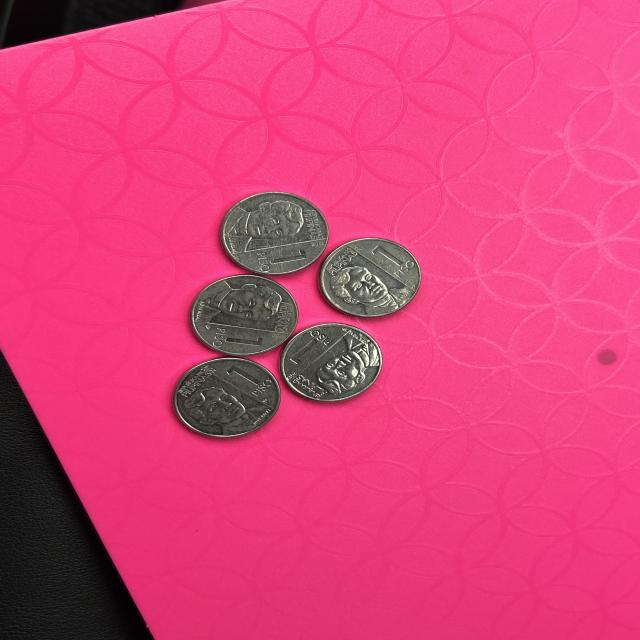1_New_Front: (367, 240, 412, 283), (208, 324, 270, 355), (226, 358, 271, 399), (255, 243, 308, 273), (287, 331, 327, 361)
